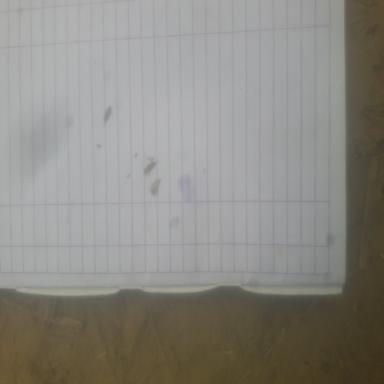pbw: (144, 161, 156, 174), (104, 106, 111, 123), (150, 179, 158, 191)
